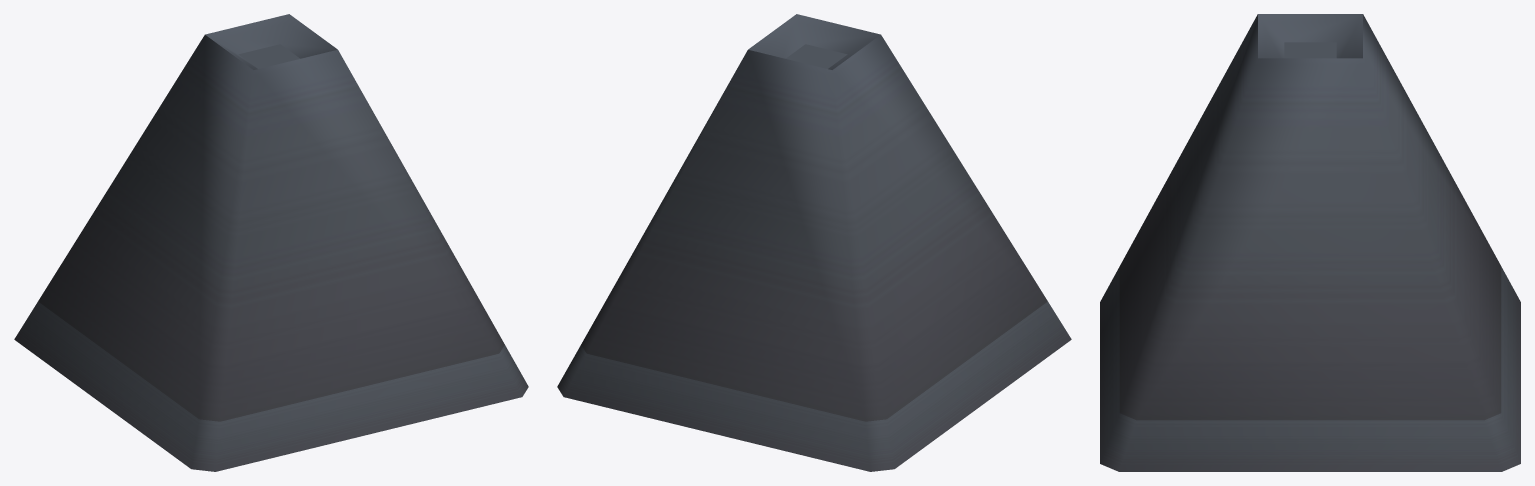
File: roof-high-point.glb
The picture shows the model from 3 angles, left to right: view 1: azimuth 30°, elevation 25°; view 2: azimuth 150°, elevation 25°; view 3: azimuth 270°, elevation 25°; orthographic projection. The views are drawn at different scales.
Visible parts, largest first — view 1: roof-high-point; view 2: roof-high-point; view 3: roof-high-point.
Part boxes in pixels (x1=…): roof-high-point: x1=14, y1=14, x2=528, y2=471; roof-high-point: x1=557, y1=14, x2=1071, y2=471; roof-high-point: x1=1100, y1=14, x2=1520, y2=471.
Bounding box in the file's own units: 1.1 × 1 × 1.1.
Materials: 1 (1 with a texture image).
